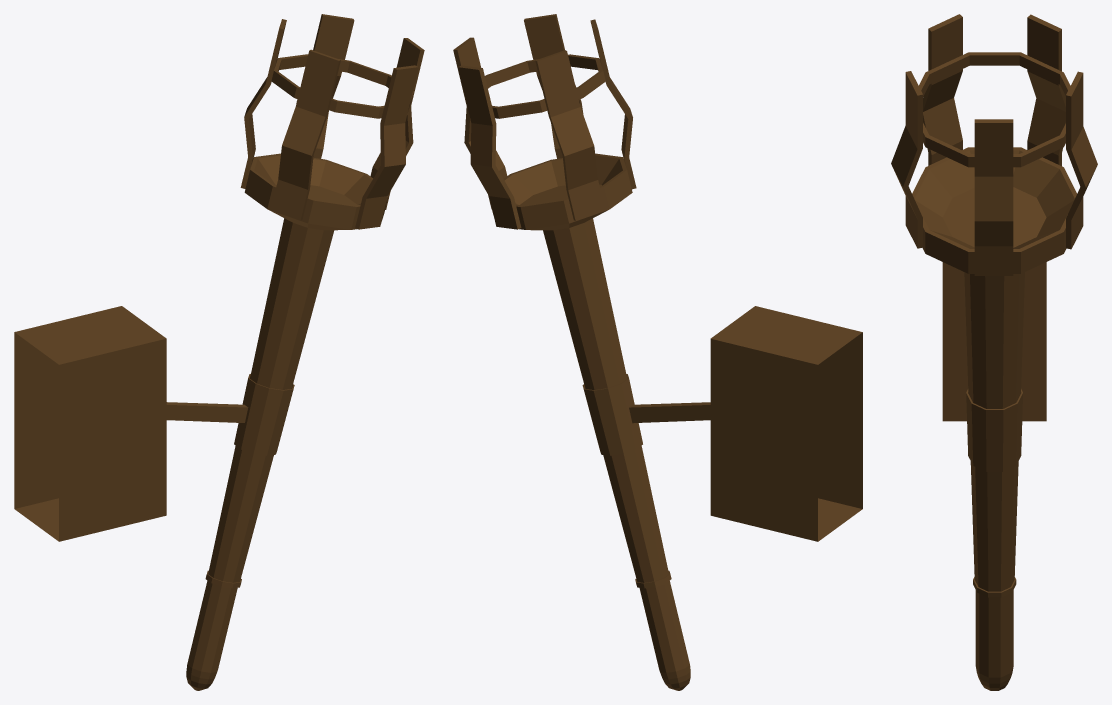
The model's file is Torch Model.fbx.
3 renders of one model, left to right at view 1: azimuth 30°, elevation 25°; view 2: azimuth 150°, elevation 25°; view 3: azimuth 270°, elevation 25°, orthographic. The views are drawn at different scales.
Visible parts, largest first — view 1: Torch.001; view 2: Torch.001; view 3: Torch.001.
Part boxes in pixels (x1,y1,x2,y2): Torch.001: (14,14,424,690); Torch.001: (453,14,862,690); Torch.001: (891,14,1097,690).
Bounding box in the file's own units: 30.85 × 48.75 × 12.53.
